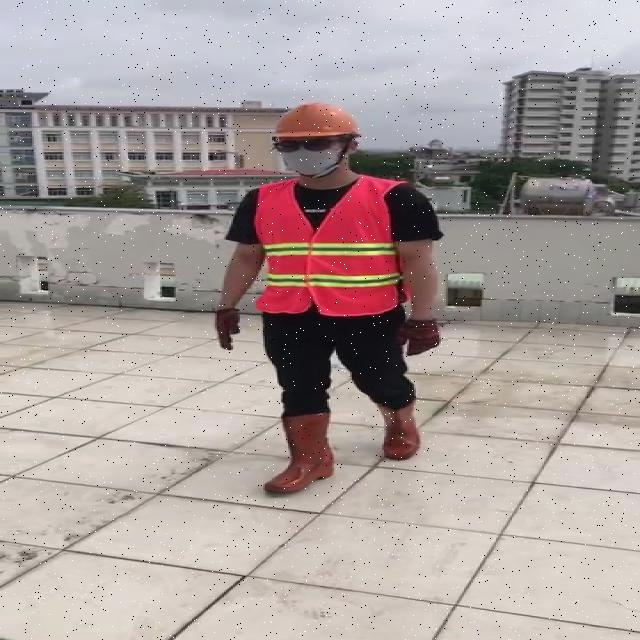Hard_hat: (268, 100, 369, 152)
Person: (206, 94, 453, 518)
Vest: (258, 173, 404, 316)
